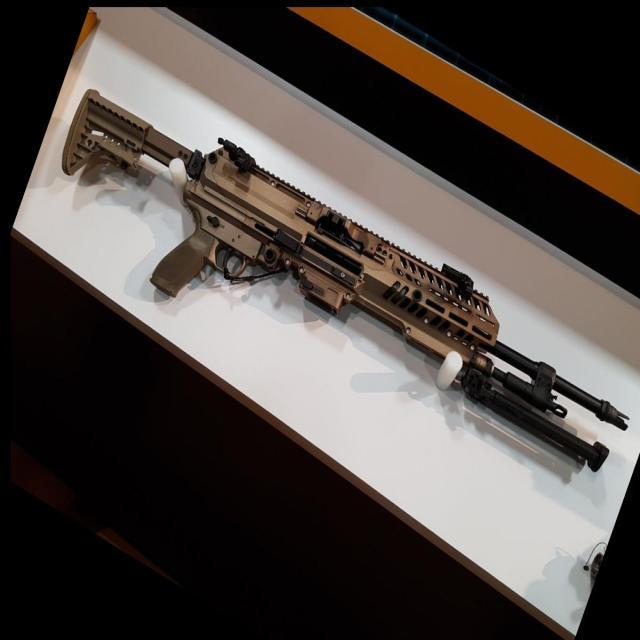weapon: (60, 86, 632, 473)
